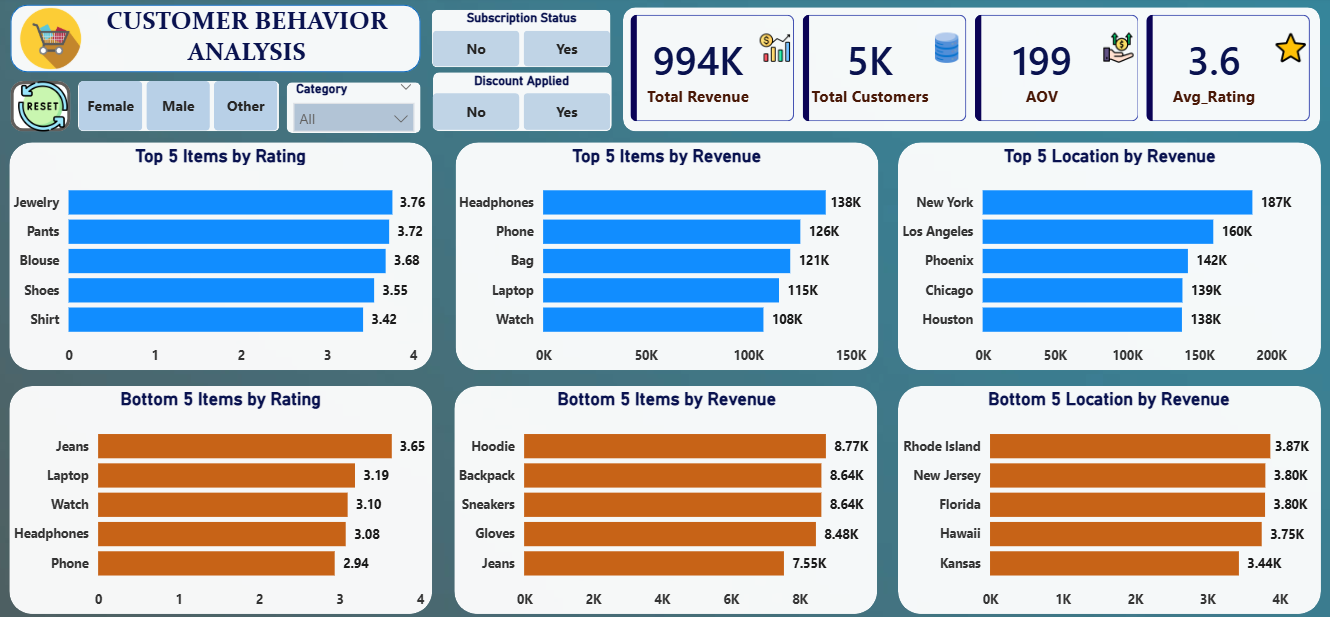

The dashboard page shown, as its layout file describes it:
{"tool":"powerbi","page":{"name":"Best - Worst","canvas":[1265,595],"ordinal":1},"visuals":[{"type":"shape","box":[592.5,10.1,660.5,117.7],"z":0},{"type":"shape","box":[10.1,139,400.8,216.1],"z":1000},{"type":"cardVisual","fields":{"Data":["public customer.Total Revenue","public customer.Total Customers","public customer.AOV","public customer.Avg_Review_Rating"]},"box":[599.6,18.3,646.3,101.5],"z":2000},{"type":"shape","box":[852.3,369.3,400.8,216.1],"z":3000},{"type":"clusteredBarChart","title":"Top 5 Items by Rating","fields":{"Category":["public customer.item_purchased"],"Y":["Avg(public customer.review_rating)"]},"box":[10.1,139,400.8,216.1],"z":4000},{"type":"shape","box":[852.3,139,400.8,216.1],"z":5000},{"type":"shape","box":[433.2,139,400.8,216.1],"z":6000},{"type":"shape","box":[432.2,369.3,400.8,216.1],"z":7000},{"type":"clusteredBarChart","title":"Top 5 Items by Revenue","fields":{"Category":["public customer.item_purchased"],"Y":["Sum(public customer.purchase_amount)"]},"box":[432.2,139,400.8,216.1],"z":8000},{"type":"shape","box":[10.1,369.3,400.8,216.1],"z":9000},{"type":"clusteredBarChart","title":"Top 5 Location by Revenue","fields":{"Category":["public customer.location"],"Y":["Sum(public customer.purchase_amount)"]},"box":[852.3,139,400.8,216.1],"z":10000},{"type":"clusteredBarChart","title":"Bottom 5 Items by Rating","fields":{"Category":["public customer.item_purchased"],"Y":["Avg(public customer.review_rating)"]},"box":[10.1,369.3,400.8,216.1],"z":11000},{"type":"clusteredBarChart","title":"Bottom 5 Items by Revenue","fields":{"Category":["public customer.item_purchased"],"Y":["Sum(public customer.purchase_amount)"]},"box":[432.2,369.3,400.8,216.1],"z":12000},{"type":"clusteredBarChart","title":"Bottom 5 Location by Revenue","fields":{"Category":["public customer.location"],"Y":["Sum(public customer.purchase_amount)"]},"box":[852.3,369.3,400.8,216.1],"z":13000},{"type":"shape","box":[410.9,13.2,169.4,54.8],"z":14000},{"type":"shape","box":[12.2,8.1,388.6,63.9],"z":15000},{"type":"shape","box":[76.1,80.2,190.7,47.7],"z":16000},{"type":"shape","box":[411.9,72,169.4,55.8],"z":17000},{"type":"actionButton","box":[12.2,80.2,56.8,47.7],"z":18000},{"type":"textbox","box":[71,8.1,329.7,63.9],"z":19000},{"type":"image","box":[12.2,8.1,76.1,63.9],"z":20000},{"type":"shape","box":[273.9,81.2,126.8,48],"z":20500},{"type":"image","box":[14.2,80.2,56.8,47.7],"z":21000},{"type":"advancedSlicerVisual","title":"Subscription Status","fields":{"Values":["public customer.subscription_status"]},"box":[410.9,13.2,170.5,54.8],"z":22000},{"type":"advancedSlicerVisual","title":"Discount Applied","fields":{"Values":["public customer.discount_applied"]},"box":[410.9,72,170.5,55.8],"z":23000},{"type":"advancedSlicerVisual","fields":{"Values":["public customer.gender"]},"box":[76.1,80.2,190.7,47.7],"z":24000},{"type":"slicer","fields":{"Values":["public customer.category"]},"box":[273.9,80.2,126.8,47.7],"z":26000}]}

Visuals, with their boxes in screenshot pixels (x1, y1, x2, y2), scaled from the page's 1265x595 canvas onto the 1330x617 screenshot:
shape: bbox=[623, 10, 1317, 133]
shape: bbox=[11, 144, 432, 368]
cardVisual - public customer.Total Revenue x public customer.Total Customers: bbox=[630, 19, 1310, 124]
shape: bbox=[896, 383, 1317, 607]
"Top 5 Items by Rating" clusteredBarChart: bbox=[11, 144, 432, 368]
shape: bbox=[896, 144, 1317, 368]
shape: bbox=[455, 144, 877, 368]
shape: bbox=[454, 383, 876, 607]
"Top 5 Items by Revenue" clusteredBarChart: bbox=[454, 144, 876, 368]
shape: bbox=[11, 383, 432, 607]
"Top 5 Location by Revenue" clusteredBarChart: bbox=[896, 144, 1317, 368]
"Bottom 5 Items by Rating" clusteredBarChart: bbox=[11, 383, 432, 607]
"Bottom 5 Items by Revenue" clusteredBarChart: bbox=[454, 383, 876, 607]
"Bottom 5 Location by Revenue" clusteredBarChart: bbox=[896, 383, 1317, 607]
shape: bbox=[432, 14, 610, 71]
shape: bbox=[13, 8, 421, 75]
shape: bbox=[80, 83, 281, 133]
shape: bbox=[433, 75, 611, 133]
actionButton: bbox=[13, 83, 73, 133]
textbox: bbox=[75, 8, 421, 75]
image: bbox=[13, 8, 93, 75]
shape: bbox=[288, 84, 421, 134]
image: bbox=[15, 83, 75, 133]
"Subscription Status" advancedSlicerVisual: bbox=[432, 14, 611, 71]
"Discount Applied" advancedSlicerVisual: bbox=[432, 75, 611, 133]
advancedSlicerVisual - public customer.gender: bbox=[80, 83, 281, 133]
slicer - public customer.category: bbox=[288, 83, 421, 133]
